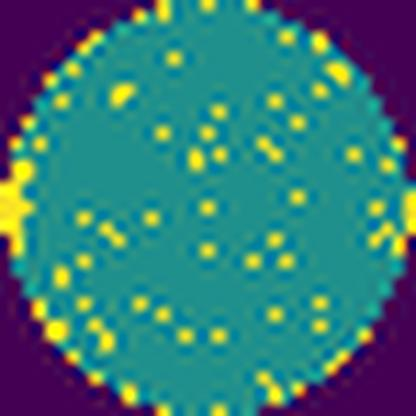Edge-Loc: (0, 155, 41, 261)
